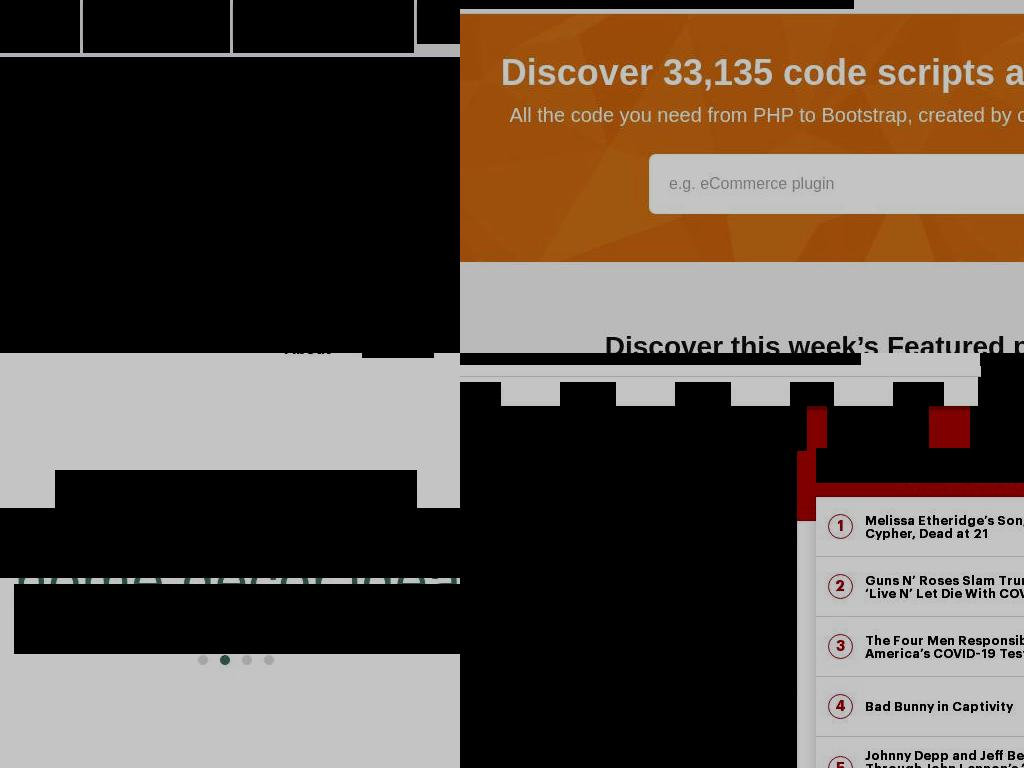button: (0, 57, 460, 353), (460, 438, 796, 768), (460, 406, 807, 451), (816, 497, 1024, 556), (816, 557, 1024, 616), (816, 617, 1024, 676), (816, 677, 1024, 736), (233, 0, 414, 53), (83, 0, 230, 53), (816, 737, 1024, 768), (0, 0, 80, 53), (417, 0, 460, 44), (978, 377, 1024, 411), (647, 0, 733, 9), (484, 0, 569, 9), (568, 0, 648, 9), (732, 0, 810, 9), (909, 0, 969, 9), (853, 0, 910, 9), (968, 0, 1018, 9), (809, 0, 854, 9), (362, 353, 434, 358), (284, 353, 331, 358)
field: (649, 154, 1024, 215)
heading: (460, 46, 1024, 101), (460, 100, 1024, 131), (460, 326, 1024, 353), (816, 448, 1024, 483), (865, 513, 1024, 540), (865, 573, 1024, 600), (865, 633, 1024, 660), (865, 749, 1024, 768), (865, 700, 1013, 713)
iframe: (460, 353, 1024, 768)
image: (460, 14, 1024, 263), (0, 57, 460, 353), (460, 437, 797, 768), (1003, 383, 1024, 405)
link: (827, 406, 929, 451), (970, 406, 1024, 451), (560, 382, 616, 406), (675, 382, 731, 406), (893, 382, 944, 406), (790, 382, 834, 406), (460, 382, 501, 406)
text: (0, 508, 460, 578), (14, 584, 460, 654), (55, 470, 417, 540), (460, 417, 692, 442), (248, 3, 399, 25), (248, 21, 380, 43), (98, 21, 215, 43), (0, 3, 65, 25), (0, 21, 55, 43), (98, 3, 152, 25), (432, 12, 460, 34), (362, 353, 434, 358), (284, 353, 331, 358)
